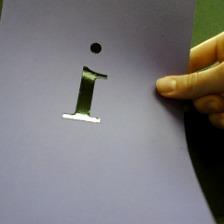violet1: (58, 40, 113, 125)
